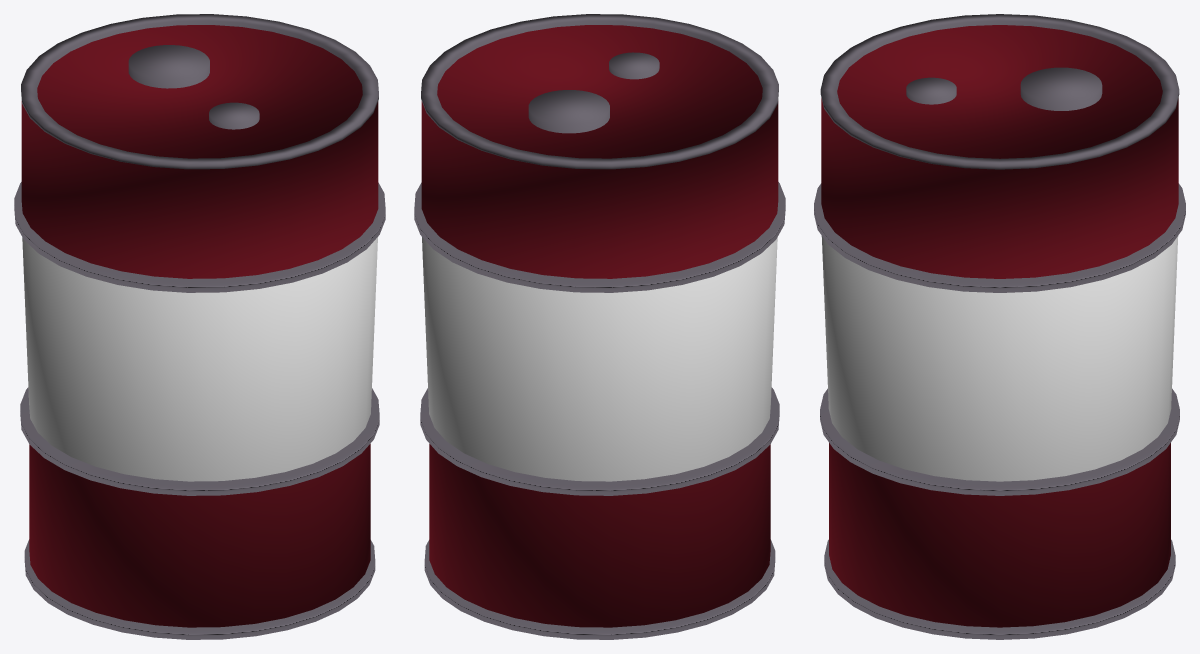
Rendered from redbarrel.glb.
The picture shows the model from 3 angles, left to right: view 1: azimuth 30°, elevation 25°; view 2: azimuth 150°, elevation 25°; view 3: azimuth 270°, elevation 25°; orthographic projection.
Parts seen in each view (by area): view 1: Cylinder, Cylinder.002, Cylinder.001, Cylinder.005, Cylinder.003, Cylinder.004; view 2: Cylinder, Cylinder.002, Cylinder.001, Cylinder.005, Cylinder.003, Cylinder.004; view 3: Cylinder, Cylinder.002, Cylinder.001, Cylinder.005, Cylinder.003, Cylinder.004.
Boxes of the visible parts, left/top/right/bottom form: Cylinder: left=21, top=14, right=378, bottom=627; Cylinder.002: left=20, top=387, right=379, bottom=495; Cylinder.001: left=14, top=182, right=385, bottom=292; Cylinder.005: left=24, top=539, right=375, bottom=639; Cylinder.003: left=128, top=45, right=209, bottom=88; Cylinder.004: left=209, top=102, right=259, bottom=129; Cylinder: left=421, top=14, right=778, bottom=627; Cylinder.002: left=420, top=387, right=779, bottom=495; Cylinder.001: left=414, top=182, right=785, bottom=292; Cylinder.005: left=424, top=539, right=775, bottom=639; Cylinder.003: left=528, top=90, right=609, bottom=133; Cylinder.004: left=609, top=52, right=659, bottom=79; Cylinder: left=820, top=14, right=1179, bottom=627; Cylinder.002: left=820, top=388, right=1179, bottom=495; Cylinder.001: left=814, top=183, right=1185, bottom=292; Cylinder.005: left=824, top=539, right=1175, bottom=639; Cylinder.003: left=1020, top=67, right=1102, bottom=110; Cylinder.004: left=906, top=77, right=956, bottom=104.
Size of the model in its own units: 1.07 by 1.53 by 1.07.
